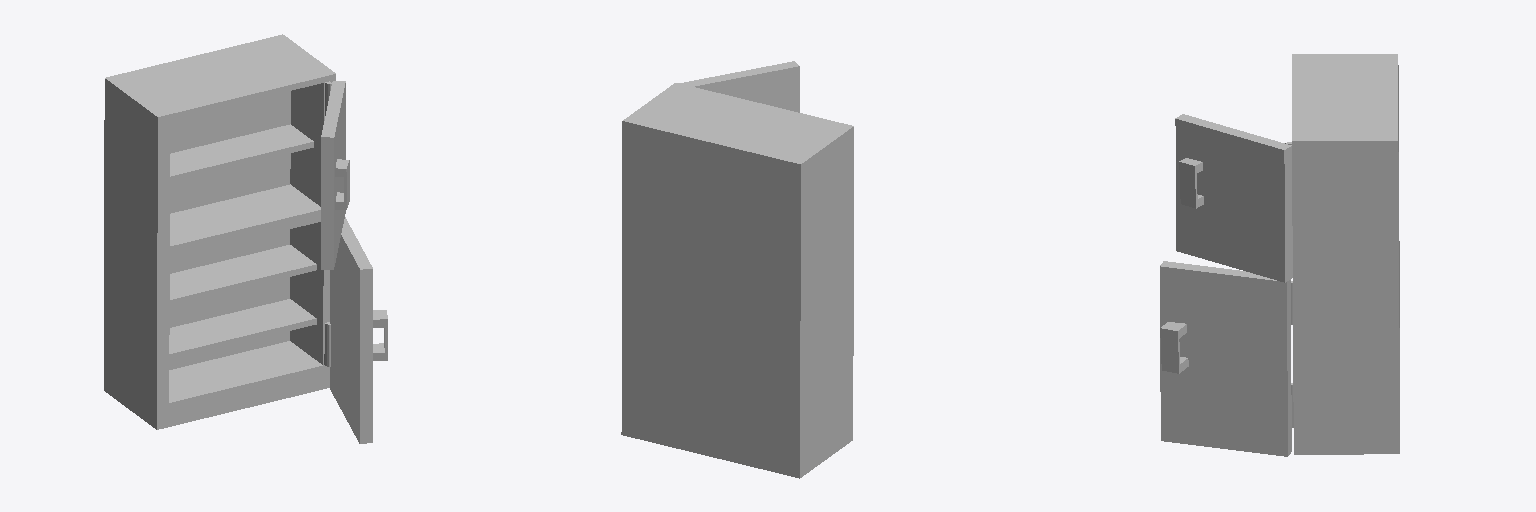
File: fridge.obj
3 views of the same model, side by side, from view 1: azimuth 30°, elevation 25°; view 2: azimuth 150°, elevation 25°; view 3: azimuth 270°, elevation 25° (orthographic).
Parts seen in each view (by area): view 1: obj_0; view 2: obj_0; view 3: obj_0.
Boxes of the visible parts, x1,y1,x2,y2 form: obj_0: [104, 34, 387, 443]; obj_0: [621, 61, 853, 478]; obj_0: [1160, 54, 1399, 456].
Bounding box in the file's own units: 32 × 52.18 × 36.15.